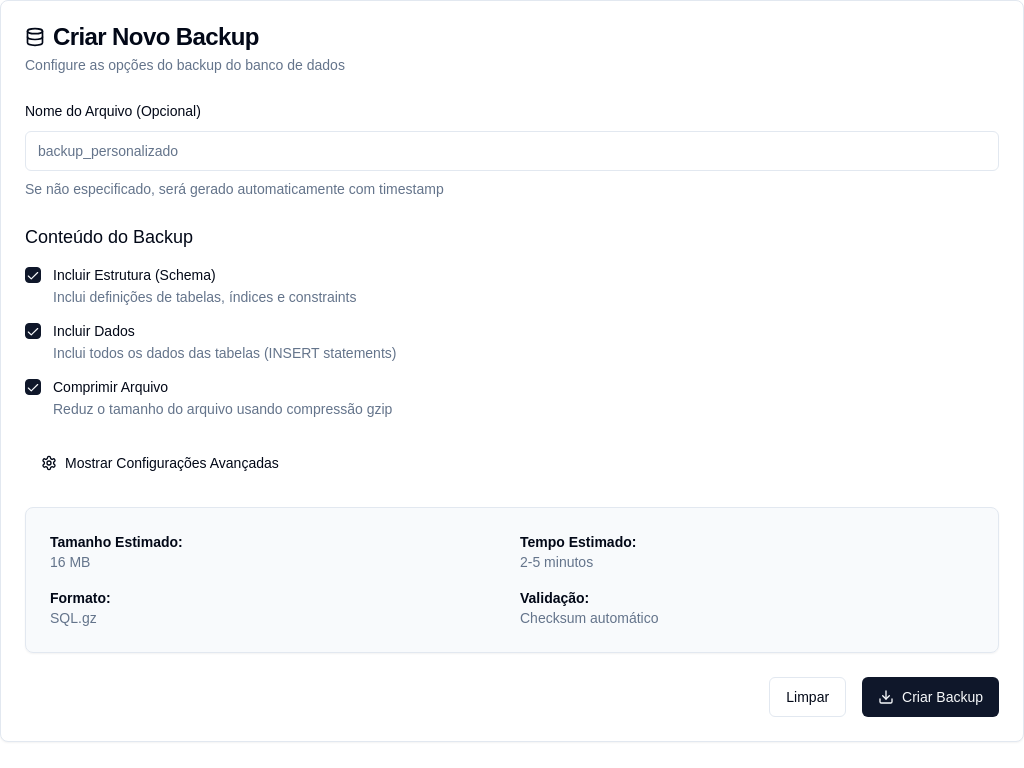
it: CreateBackupForm › deve calcular tamanho estimado corretamente
Expected: the text "16 MB" is shown, [50,554,90,570]
Desabilitar compressão
Click the checkbox named "Comprimir Arquivo" next to "Comprimir Arquivo": [33, 387] box [25,379,41,395]
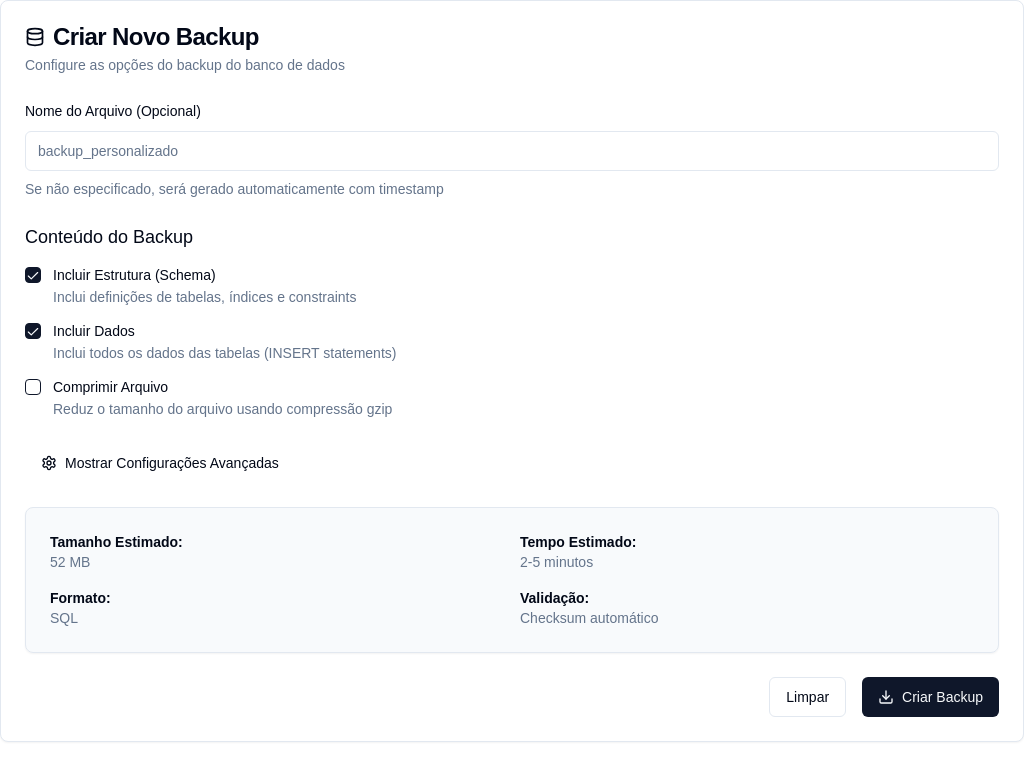
Expected: the text "52 MB" is shown, [50,554,90,570]
